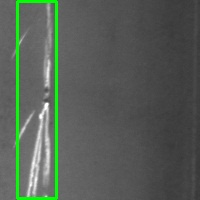scratches: (17, 1, 56, 198)
